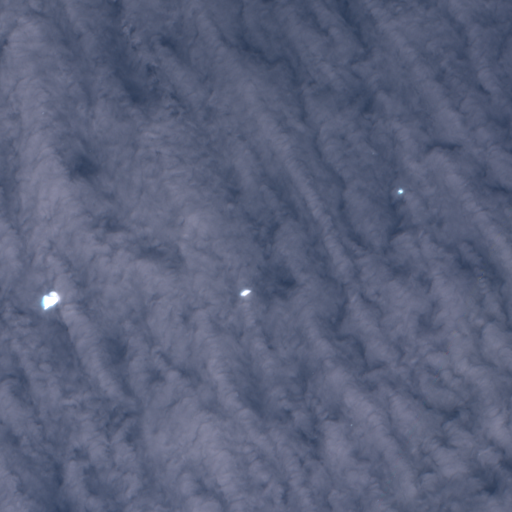Iceberg: (41, 291, 59, 308), (240, 289, 250, 295), (398, 189, 403, 193)
